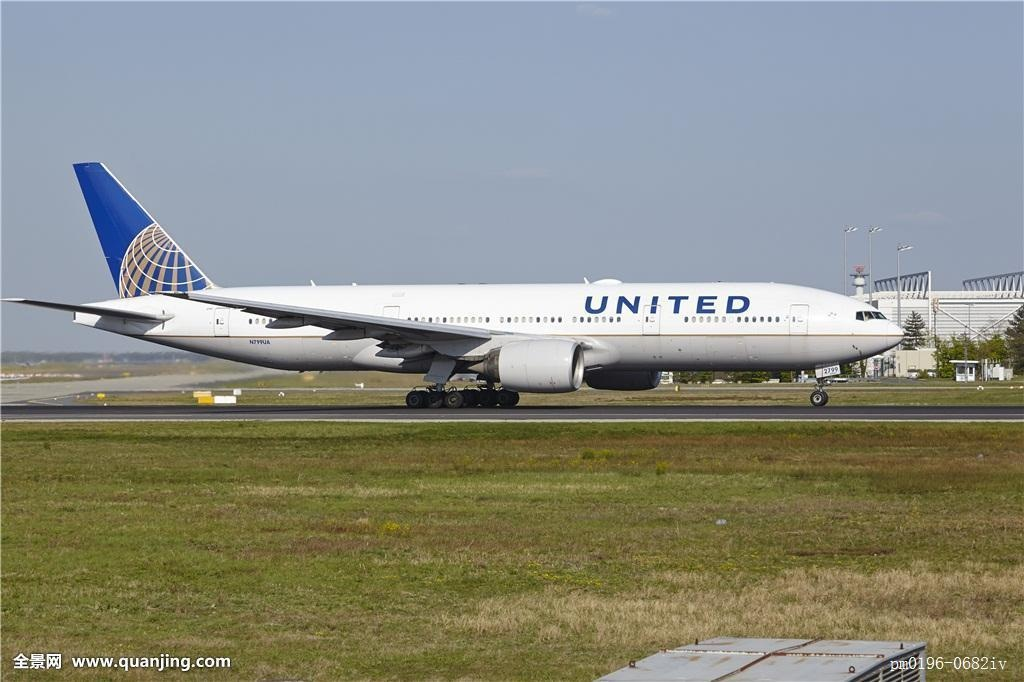airplane: (4, 163, 910, 406)
